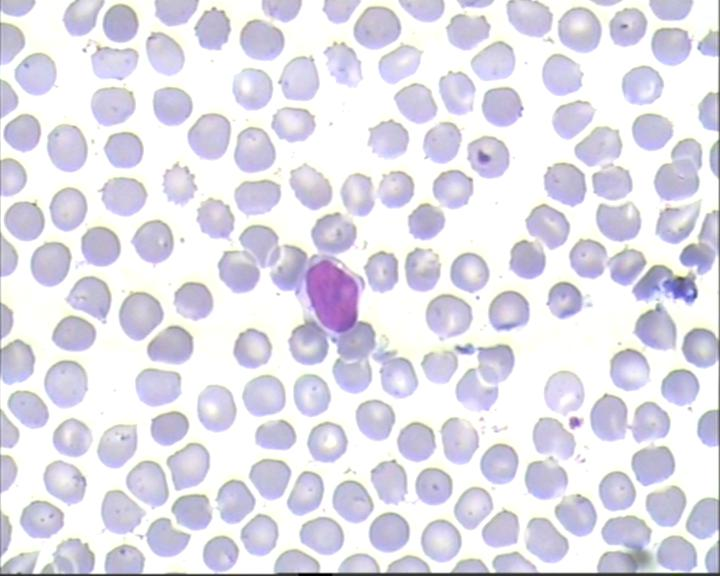lymp: (292, 251, 372, 338)
